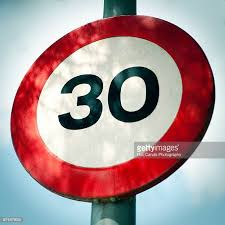Speed_limit_30km: (9, 16, 216, 200)
